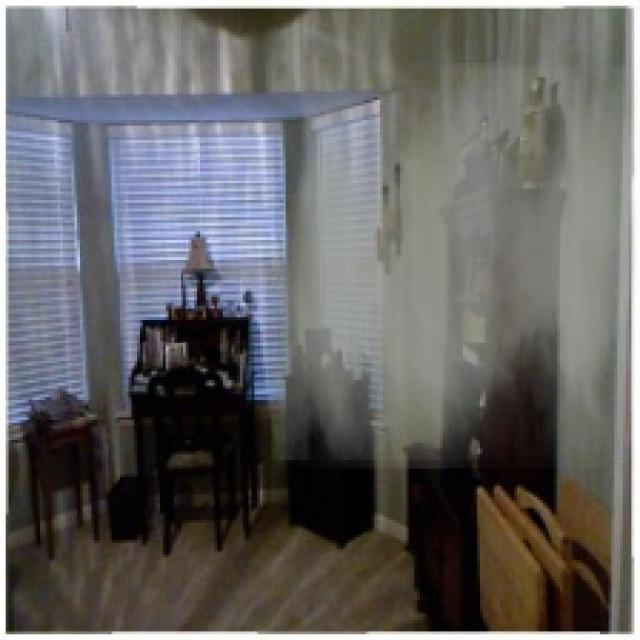Smoke: (272, 62, 637, 468)
